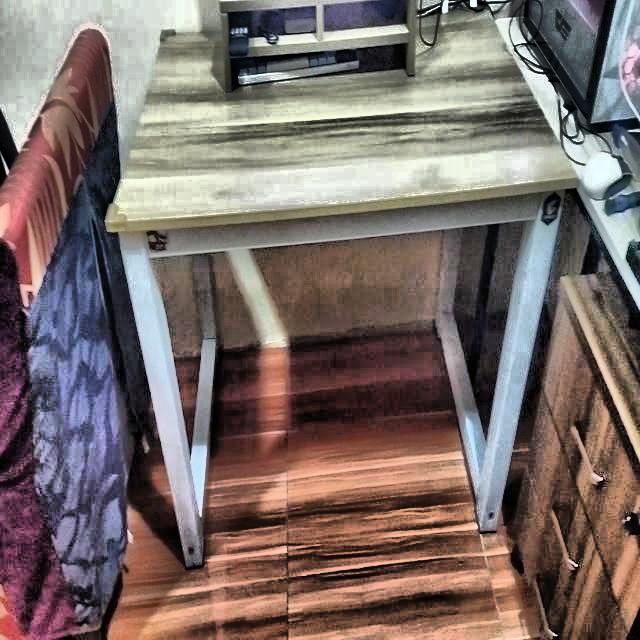mesa: (112, 3, 573, 550)
